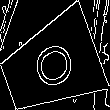O_SW: (24, 36, 78, 95)
